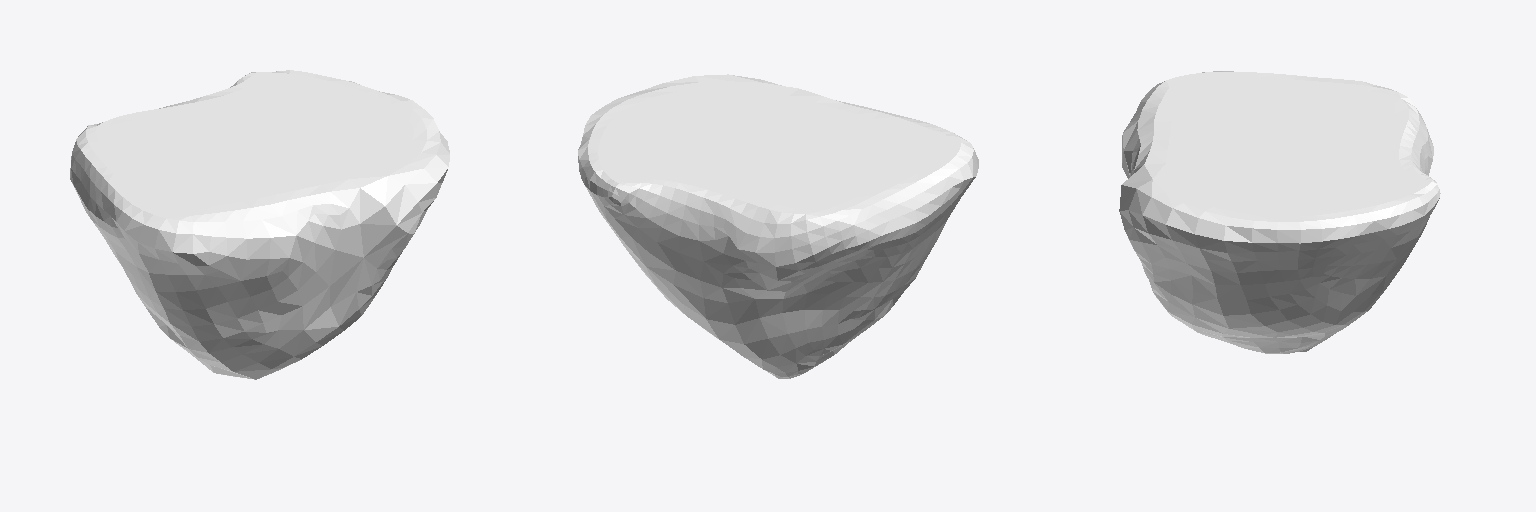
Rendered from land_D.obj.
The picture shows the model from 3 angles: view 1: azimuth 30°, elevation 25°; view 2: azimuth 150°, elevation 25°; view 3: azimuth 270°, elevation 25°; orthographic projection.
Visible parts, largest first — view 1: Volume65; view 2: Volume65; view 3: Volume65.
Boxes of the visible parts, x1=… form: Volume65: x1=70, y1=70, x2=449, y2=379; Volume65: x1=578, y1=74, x2=978, y2=378; Volume65: x1=1119, y1=71, x2=1440, y2=353.
Bounding box in the file's own units: 201 × 126 × 166.